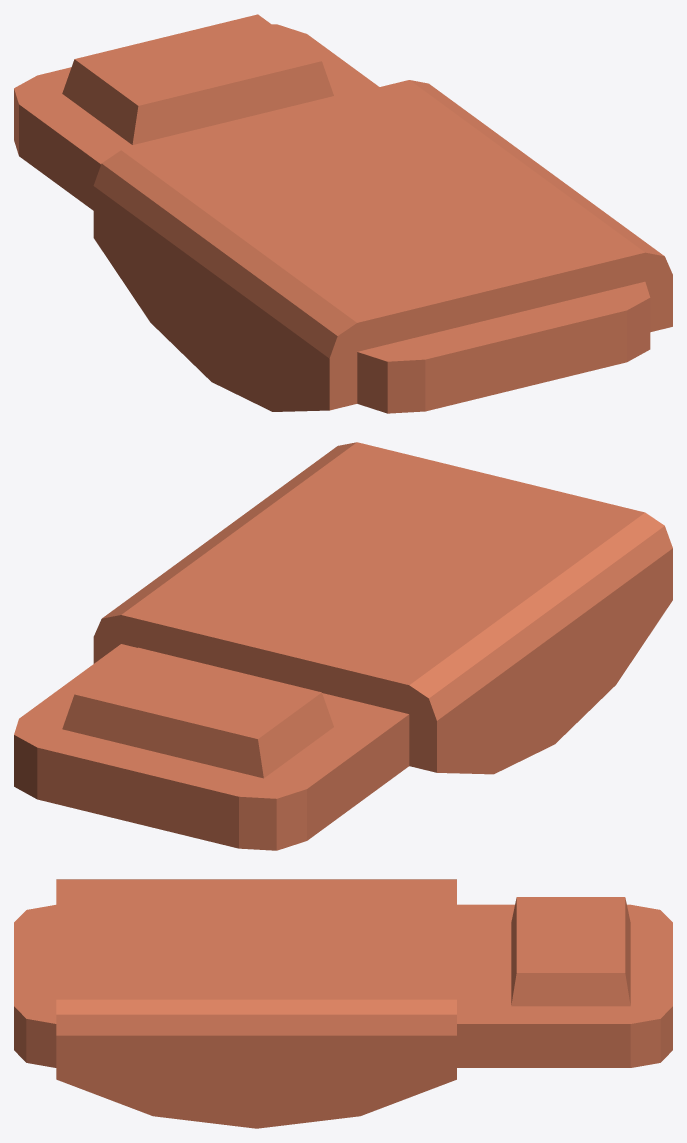
The model's file is bedroll.obj.
3 views of the same model, one above another, from view 1: azimuth 30°, elevation 25°; view 2: azimuth 150°, elevation 25°; view 3: azimuth 270°, elevation 25° (orthographic). The views are drawn at different scales.
Size of the model in its own units: 0.3104 by 0.1248 by 0.6076.
